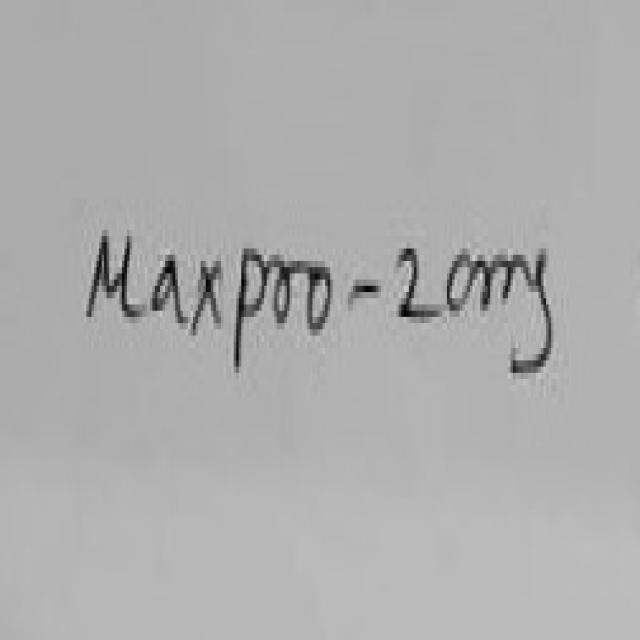0: (450, 255, 475, 311)
2: (399, 249, 442, 323)
M: (86, 236, 142, 317)
a: (152, 255, 188, 323)
g: (513, 249, 554, 373)
m: (475, 255, 536, 311)
o: (310, 267, 333, 326)
p: (234, 249, 269, 370)
r: (267, 255, 307, 320)
x: (193, 261, 221, 332)
